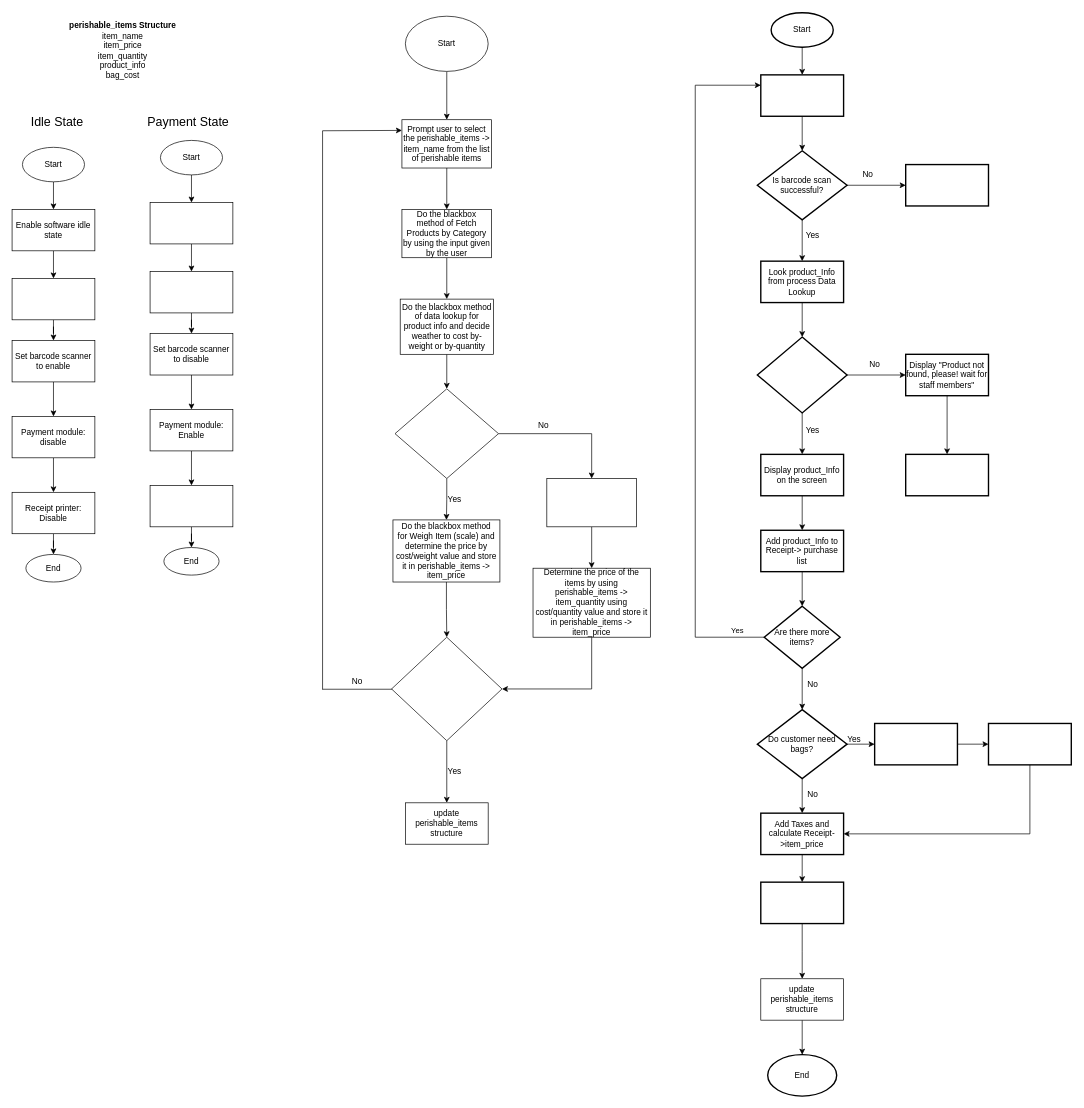
Some shapes in this 1084 by 1108 pixel diagram are drawn without their labels. The shapes that lost their labels are listed below. From the top down, each one's box as (x1, y1, x2, y2) in pixels, then its label:
(760, 74, 844, 117): Scan the product barcode
(905, 164, 989, 206): Ask to manually enter barcode number using keyboard
(149, 202, 233, 244): Enable Payment State
(11, 278, 95, 320): update display with "Welcome! Swipe the product on the barcode Scanner"
(149, 271, 233, 313): Update display showing receipt and payment options
(756, 336, 847, 413): Is product_Info found?
(394, 388, 499, 479): Is the price determined by weight?
(905, 453, 989, 496): Alert staff members about the problem.
(149, 485, 233, 527): Receipt printer : Enable
(546, 478, 637, 527): Prompt user to enter the quantity and store it in perishable_items -> quantity
(391, 637, 502, 741): Is this all the products user wants to buy?
(874, 722, 958, 765): Prompt user to enter number of bags
(987, 722, 1072, 765): Add Receipt->bag_cost to Receipt->item_price
(760, 881, 844, 924): Go to Payment stage
